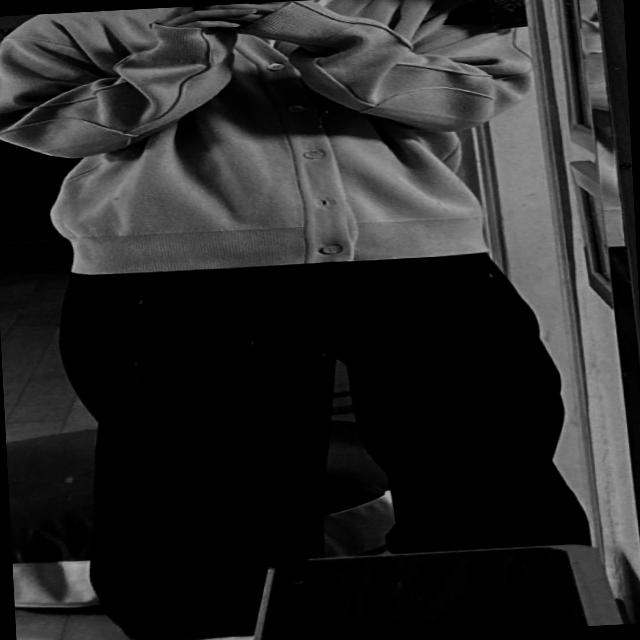cardigan: (0, 0, 552, 285)
slacks: (57, 232, 604, 640)
